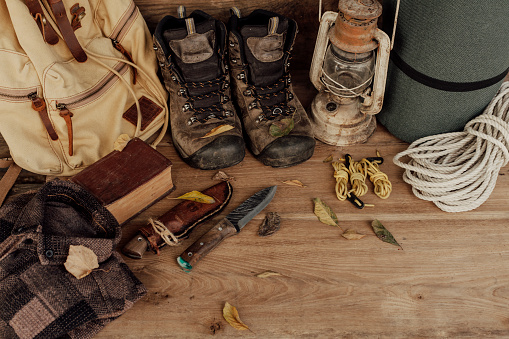knife: (121, 178, 235, 259), (175, 185, 278, 274)
